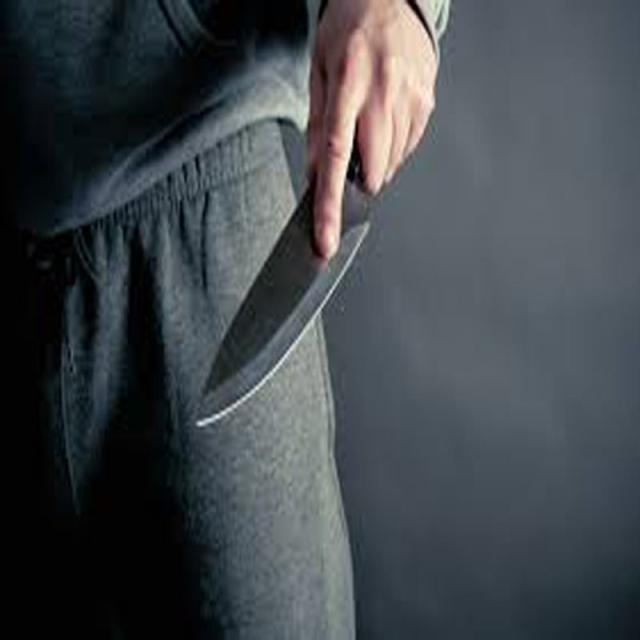knife: (194, 147, 363, 433)
